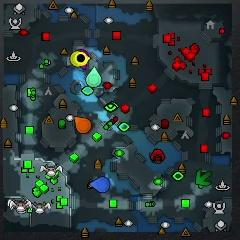p1: (90, 176, 111, 193)
p2: (86, 67, 102, 87)
p3: (78, 49, 89, 70)
p4: (70, 50, 81, 67)
p4Clone: (75, 52, 87, 65)
p5: (74, 116, 92, 134)
x4: (195, 169, 212, 186)
